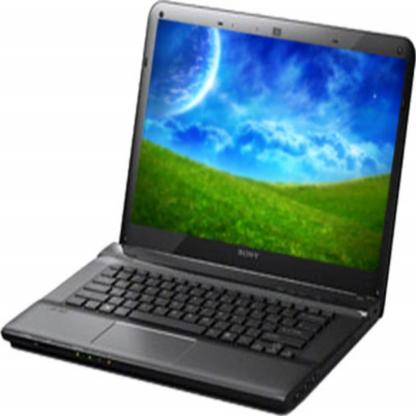board: (0, 5, 413, 409)
